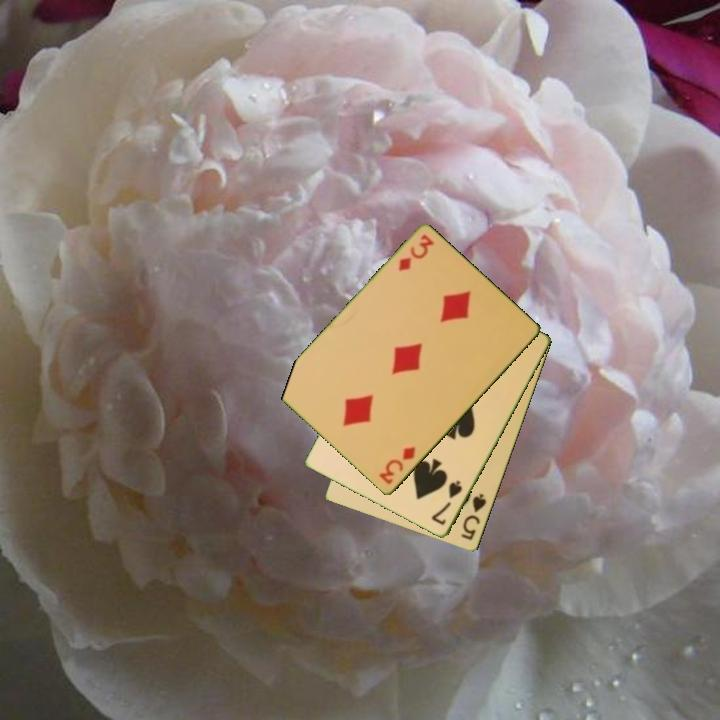3d: (375, 443, 419, 488), (395, 231, 437, 274)
5s: (457, 490, 490, 543)
7s: (428, 477, 465, 529)
